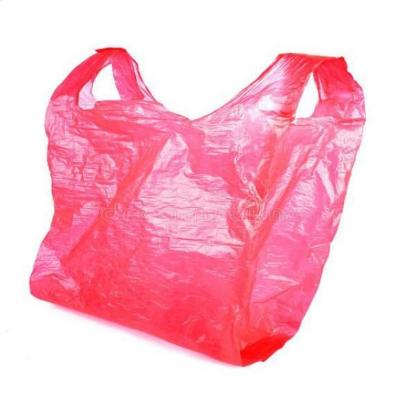Plastic Bag: (29, 45, 369, 365)
